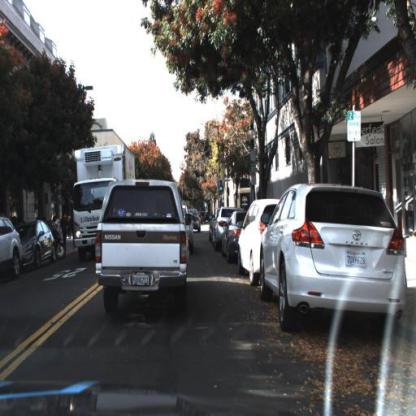car: (258, 179, 410, 348), (92, 173, 199, 328), (66, 140, 144, 264), (237, 193, 280, 287), (17, 216, 58, 276), (22, 213, 56, 265), (1, 212, 26, 280), (222, 211, 243, 265), (180, 199, 201, 252), (192, 208, 202, 232)
trafficLight-Green: (218, 178, 226, 195)
truck: (74, 146, 114, 262)
